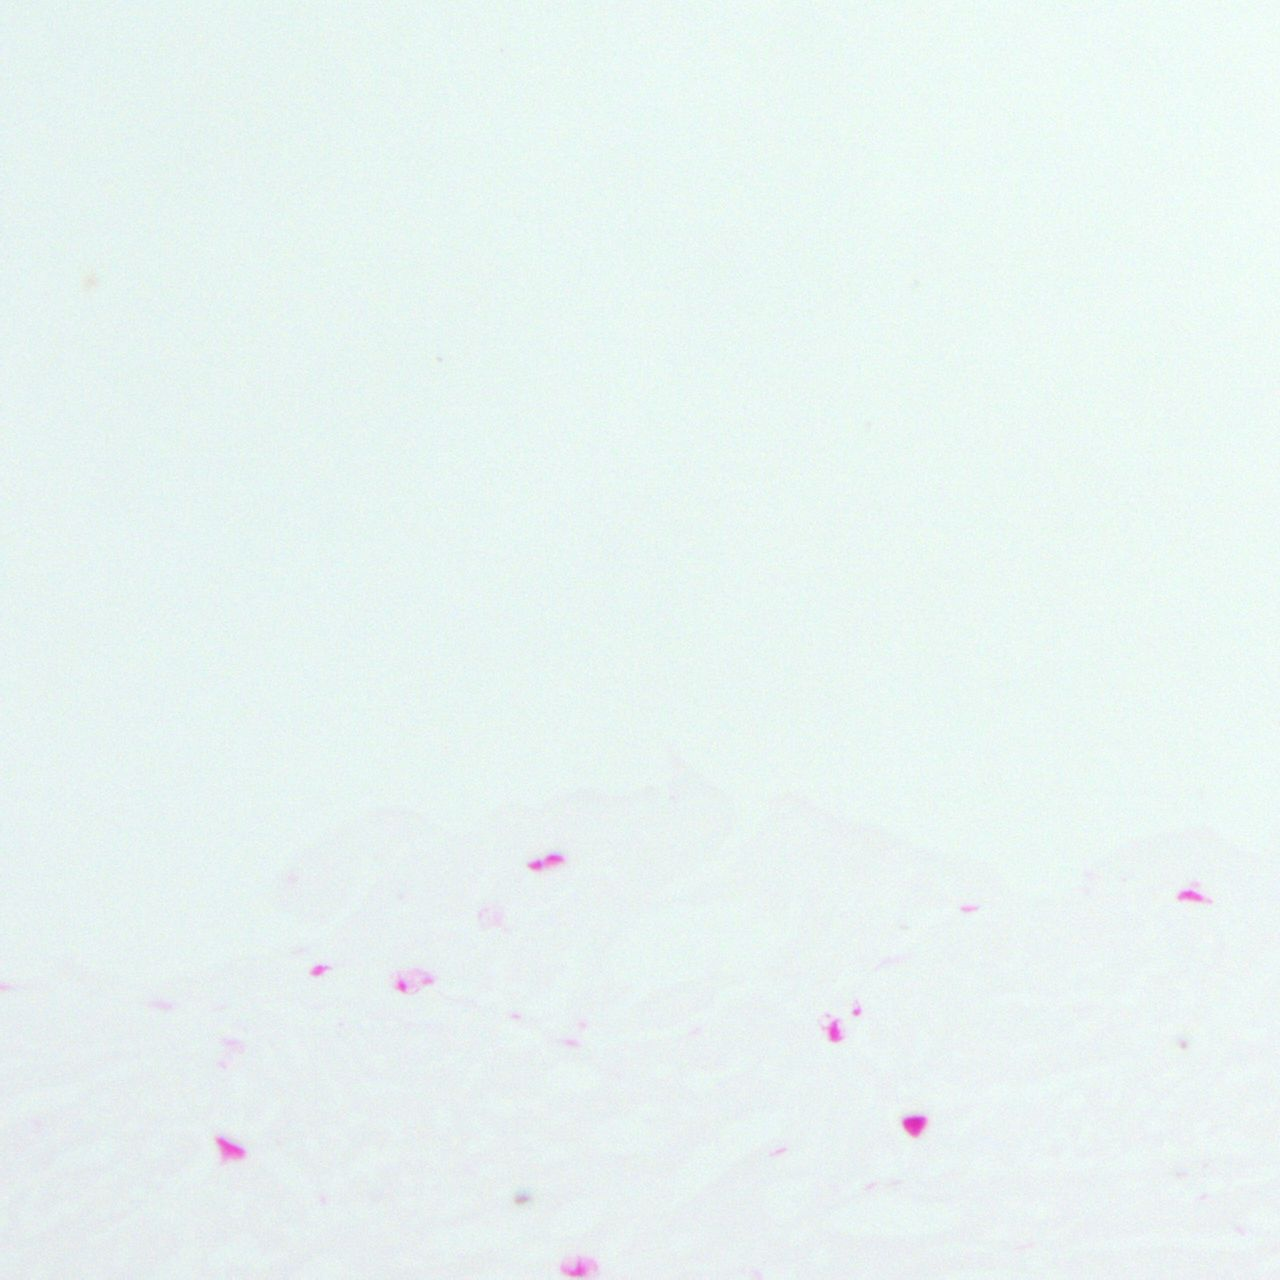nucleus-FG: (207, 1133, 248, 1166), (1176, 886, 1204, 908), (903, 1115, 928, 1137)
